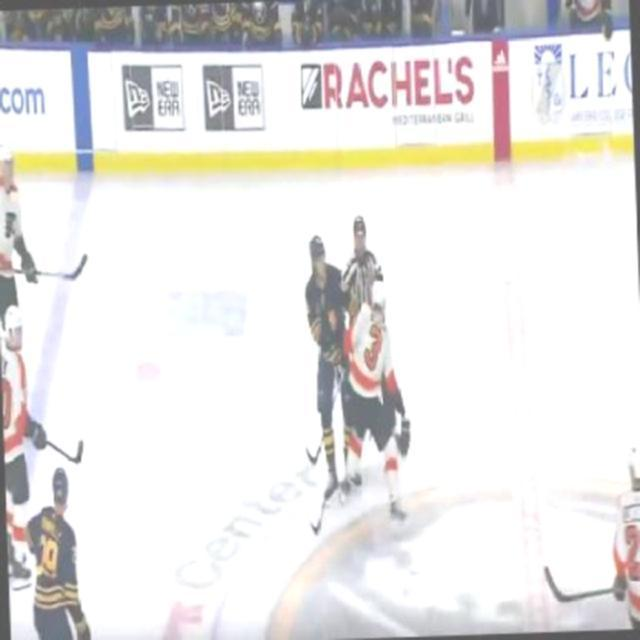fight: (300, 221, 406, 524)
